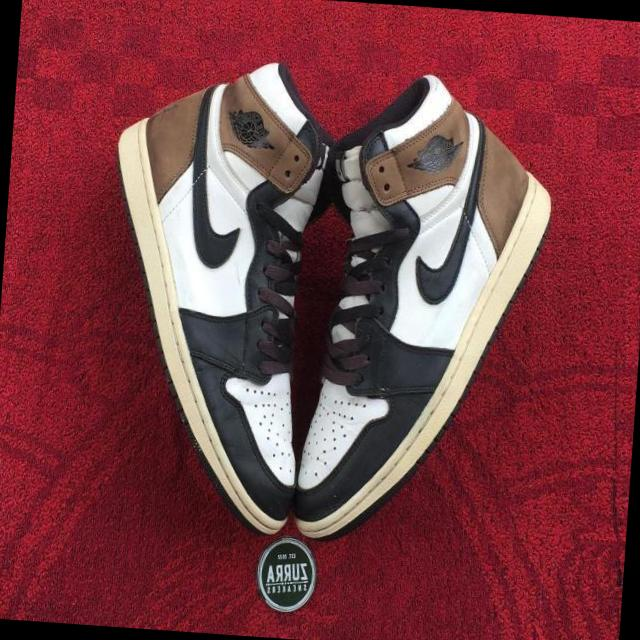nike_original_jordan: (282, 61, 560, 562), (86, 53, 341, 540)
